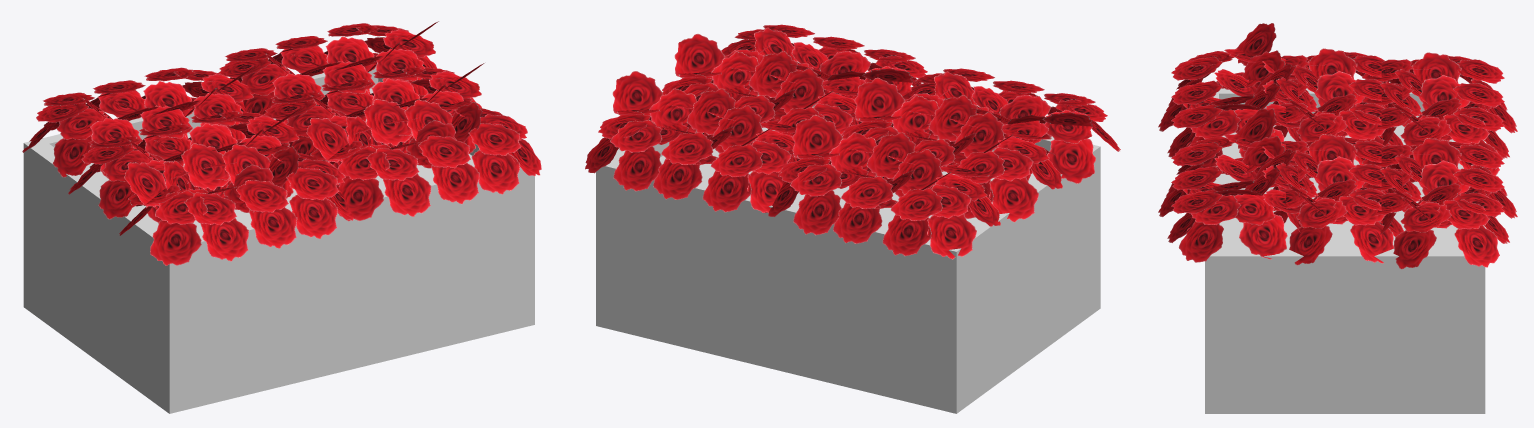
Rendered from FlowerPotRed.fbx.
3 views of the same model, side by side, from view 1: azimuth 30°, elevation 25°; view 2: azimuth 150°, elevation 25°; view 3: azimuth 270°, elevation 25° (orthographic). The views are drawn at different scales.
Parts seen in each view (by area): view 1: FlowePotRed; view 2: FlowePotRed; view 3: FlowePotRed.
Boxes of the visible parts, x1,y1,x2,y2 form: FlowePotRed: [22, 21, 541, 413]; FlowePotRed: [585, 24, 1120, 413]; FlowePotRed: [1158, 23, 1517, 413].
Bounding box in the file's own units: 23.4 × 12.02 × 18.11.
